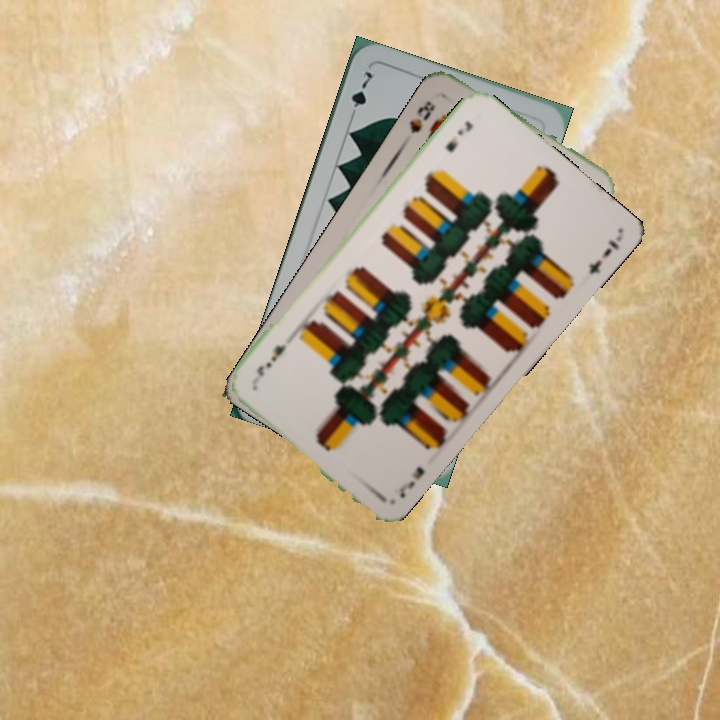E7: (441, 117, 476, 155), (394, 462, 427, 501)
G7: (346, 66, 375, 123)
S8: (405, 96, 438, 136)
